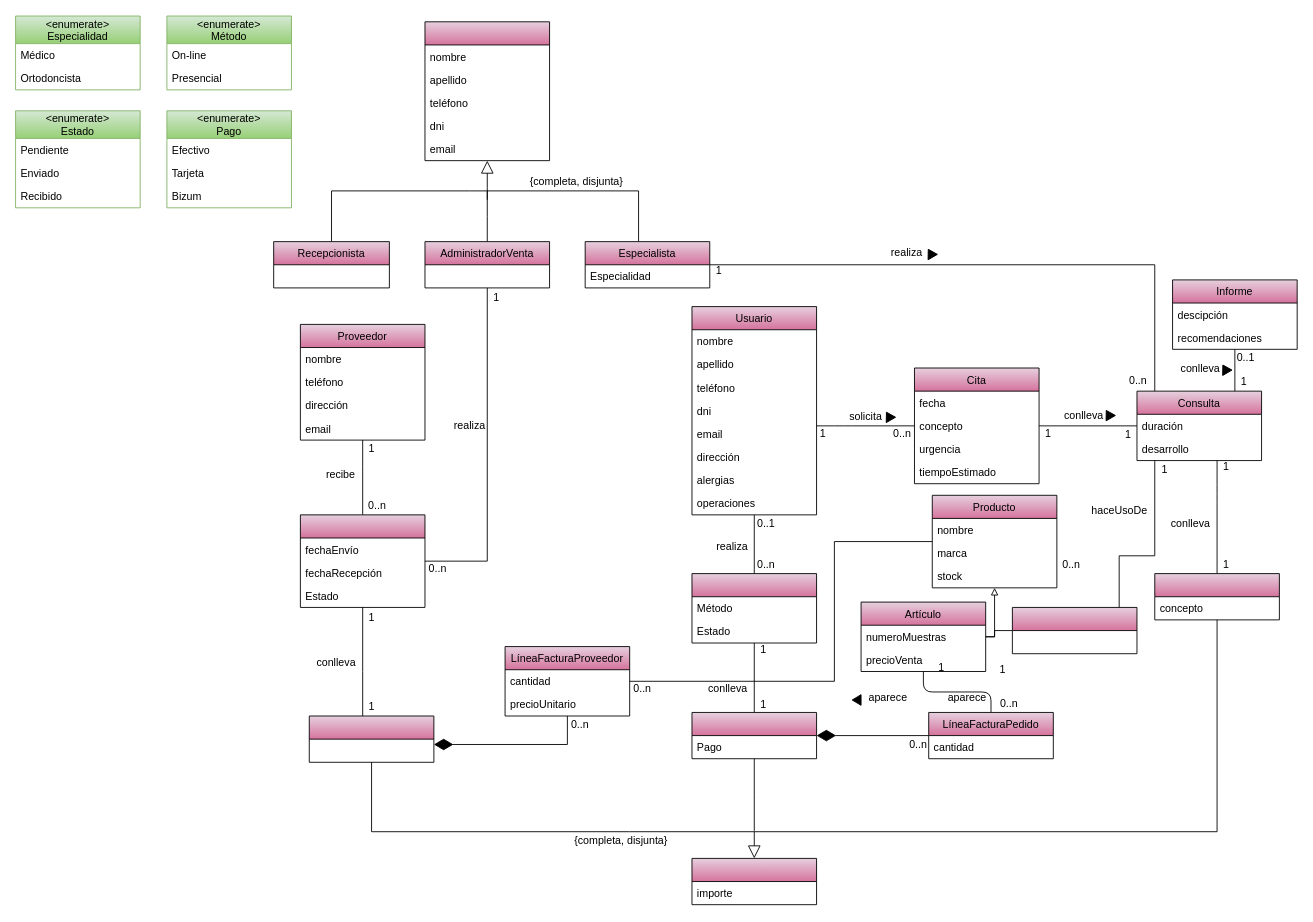
This 1313x922 diagram has some shape labels left out. Each missing label, with the box of its shape:
Cliente: (424, 21, 550, 161)
Encargo (Proveedor): (299, 514, 425, 607)
Factura: (691, 858, 817, 905)
FacturaConsulta: (1154, 573, 1279, 620)
FacturaPedido: (691, 712, 817, 759)
FacturaProveedor: (308, 715, 434, 762)
Pa clínica: (1011, 607, 1137, 654)
Pedido: (691, 573, 817, 643)
